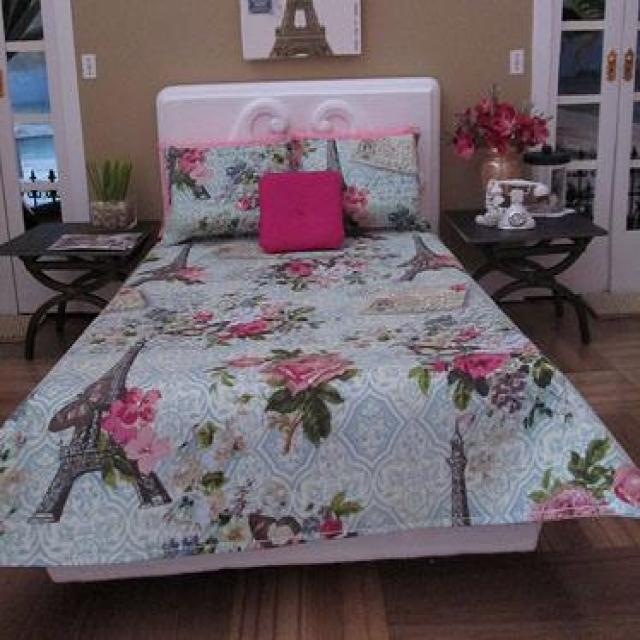bed: (0, 75, 640, 584)
table: (442, 204, 608, 344), (0, 218, 159, 360)
